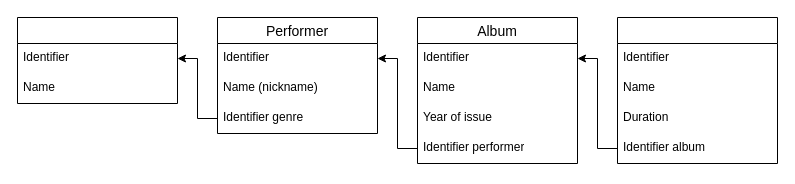
Some shapes in this 795 by 184 pixel diagram are drawn without their labels. Each missing label, with the box of its shape:
Genre: (16, 16, 178, 104)
Track: (616, 16, 778, 164)
